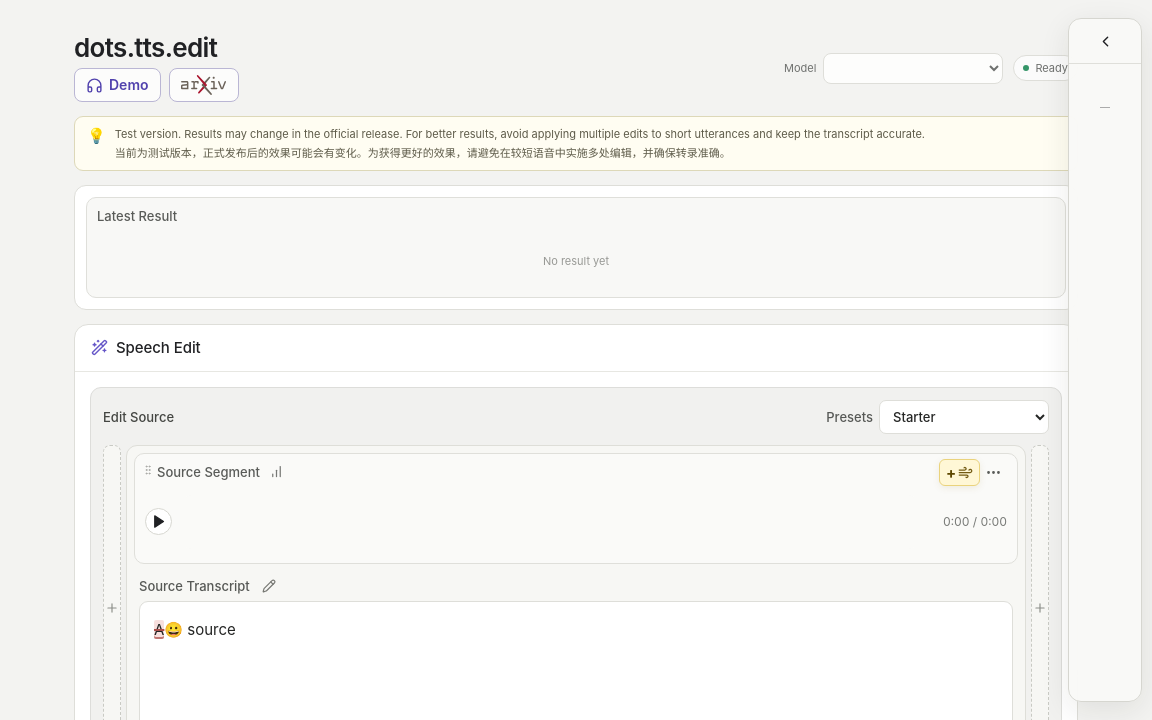
Studio layout › hides every file and recognition surface while retaining preset noise
What coordinates should you click on to do the following:
click the button named "Add background noise to Source Segment"
I would click on:
 (960, 472)
Its box is x1=939 y1=459 x2=980 y2=486.
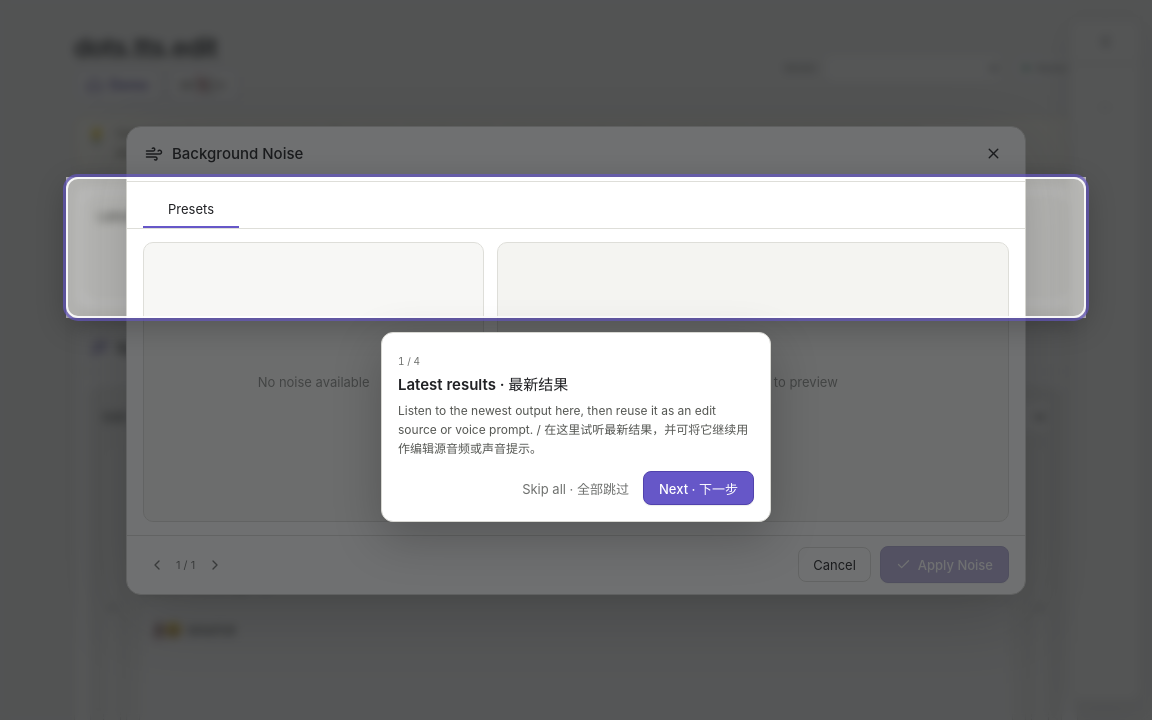
Check: the tab "Presets" is shown, box x1=143 y1=192 x2=239 y2=228
